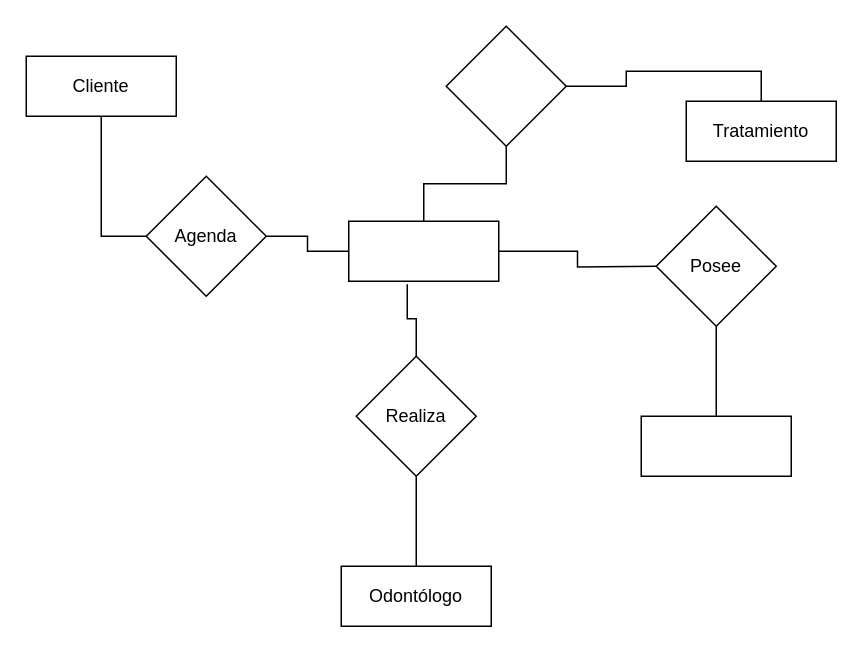
Image size: 863x653. Some labels were removed from this diagram. Here are the shapes that lost their labels. From the top down, the box of each, then its label:
(445, 25, 566, 146): involucrar
(347, 220, 499, 281): Atención
(640, 415, 791, 476): Estado
